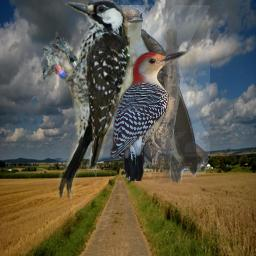Swallow: (90, 5, 210, 185)
Woodpecker: (43, 0, 130, 199), (110, 51, 187, 181)
